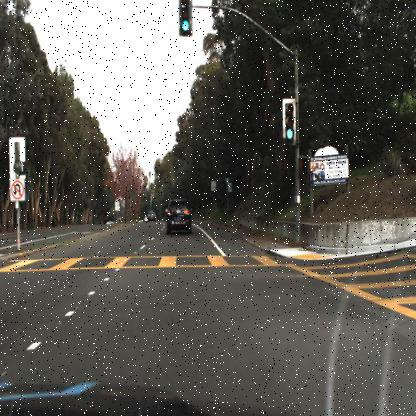car: (161, 195, 194, 238), (146, 205, 160, 227), (145, 207, 158, 227)
trafficLight-Green: (281, 95, 299, 147), (283, 125, 294, 142)
